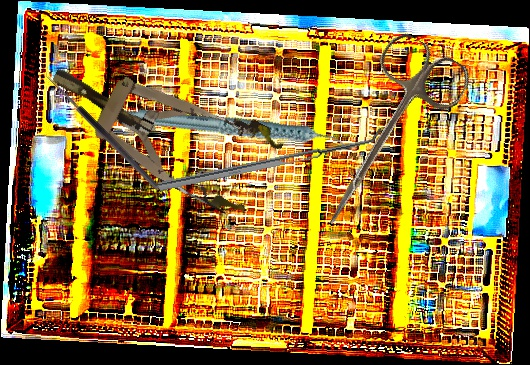Handpiece: (121, 65, 349, 196)
Hook Surgical: (37, 72, 161, 197)
Iris Scissors: (295, 27, 476, 249)
Spatula Surgical: (156, 125, 384, 192)
Speculum: (33, 29, 288, 224)
